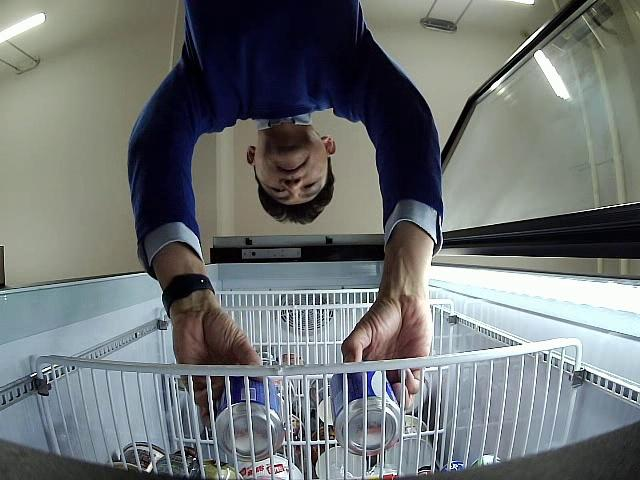00_hand: (170, 305, 265, 429), (342, 288, 432, 409)
13_pocariSweat: (214, 377, 285, 461), (330, 371, 400, 456)
